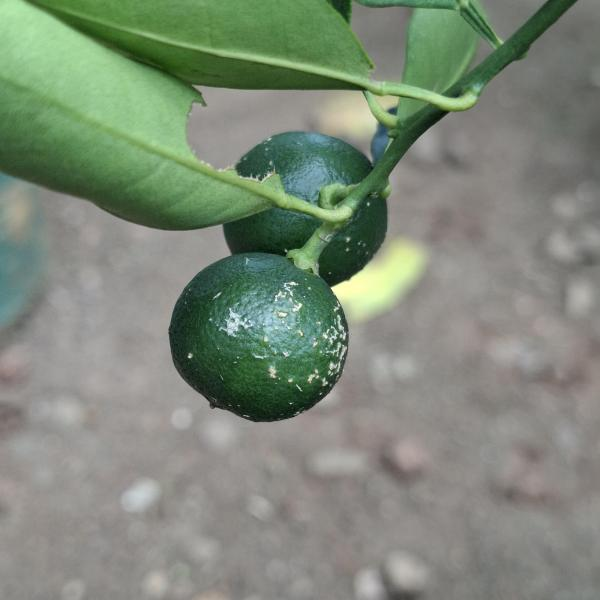Scab: (163, 245, 359, 430), (219, 132, 397, 290)
